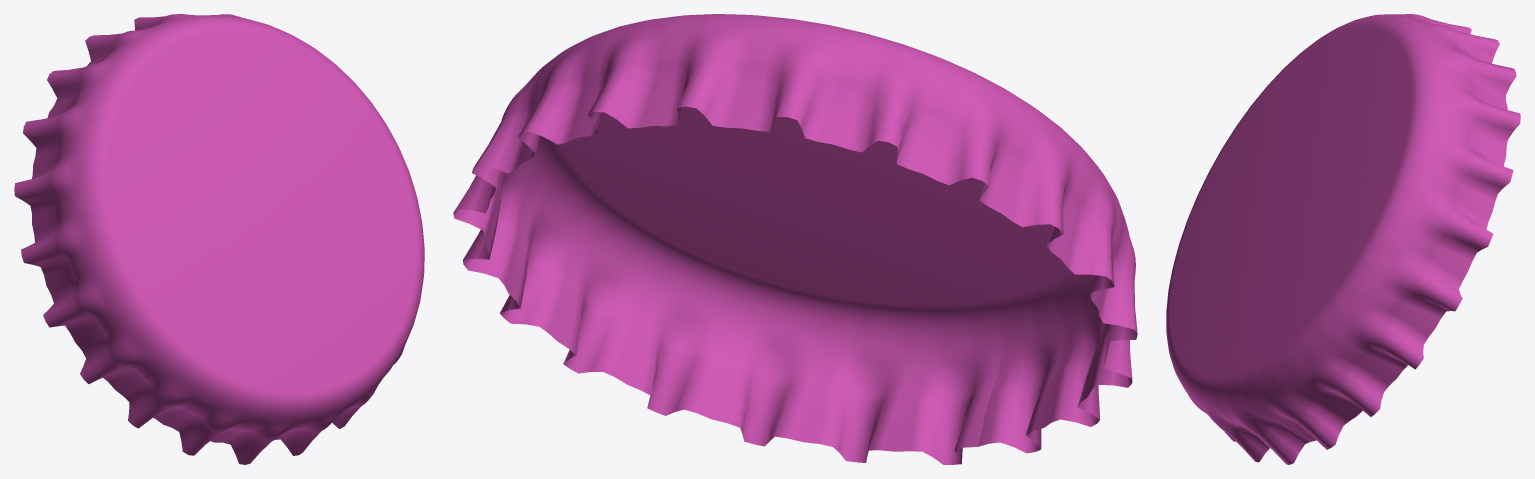
The model's file is bottleCap.obj.
3 views of the same model, side by side, from view 1: azimuth 30°, elevation 25°; view 2: azimuth 150°, elevation 25°; view 3: azimuth 270°, elevation 25° (orthographic). The views are drawn at different scales.
Parts seen in each view (by area): view 1: Cylinder.002_Cylinder.008; view 2: Cylinder.002_Cylinder.008; view 3: Cylinder.002_Cylinder.008.
Part boxes in pixels (box(x1,y1,x2,y2)): Cylinder.002_Cylinder.008: box(14, 14, 424, 464); Cylinder.002_Cylinder.008: box(453, 14, 1137, 464); Cylinder.002_Cylinder.008: box(1166, 14, 1520, 464).
Size of the model in its own units: 1.27 by 1.13 by 0.9461.
